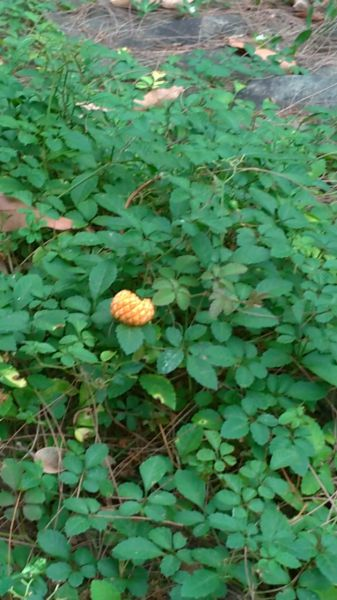eggs: (105, 287, 159, 330)
